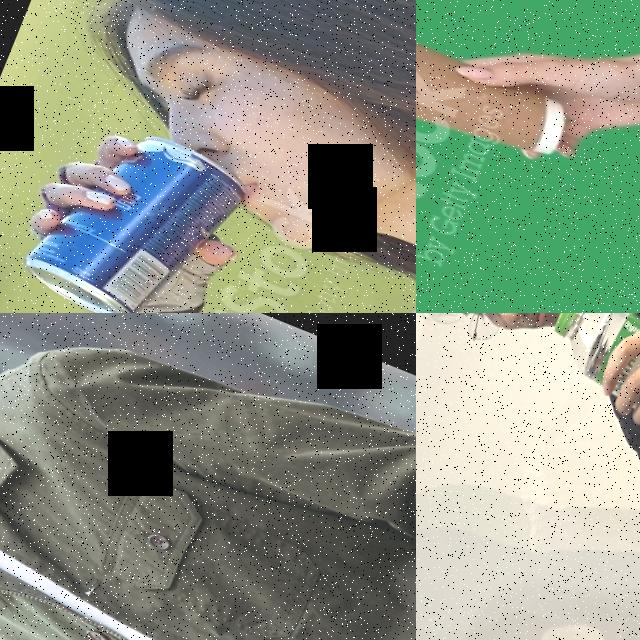bottle: (521, 313, 640, 481)
can: (11, 102, 262, 313)
cup: (416, 13, 577, 179)
